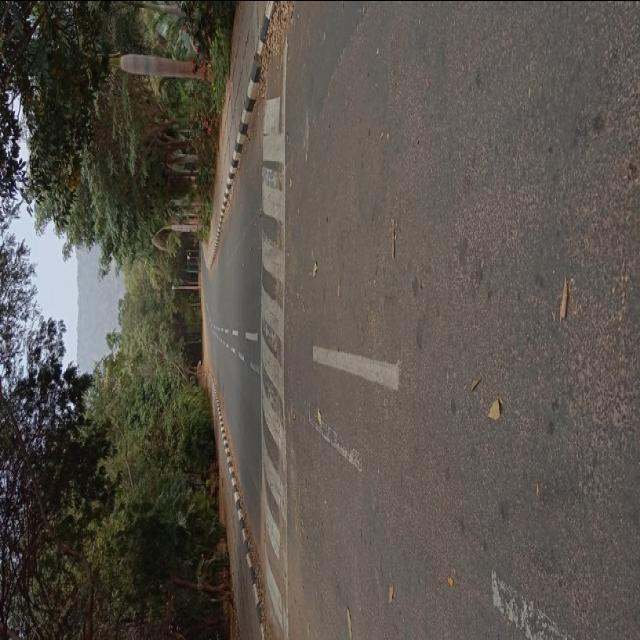speedbreaker: (254, 54, 293, 640)
